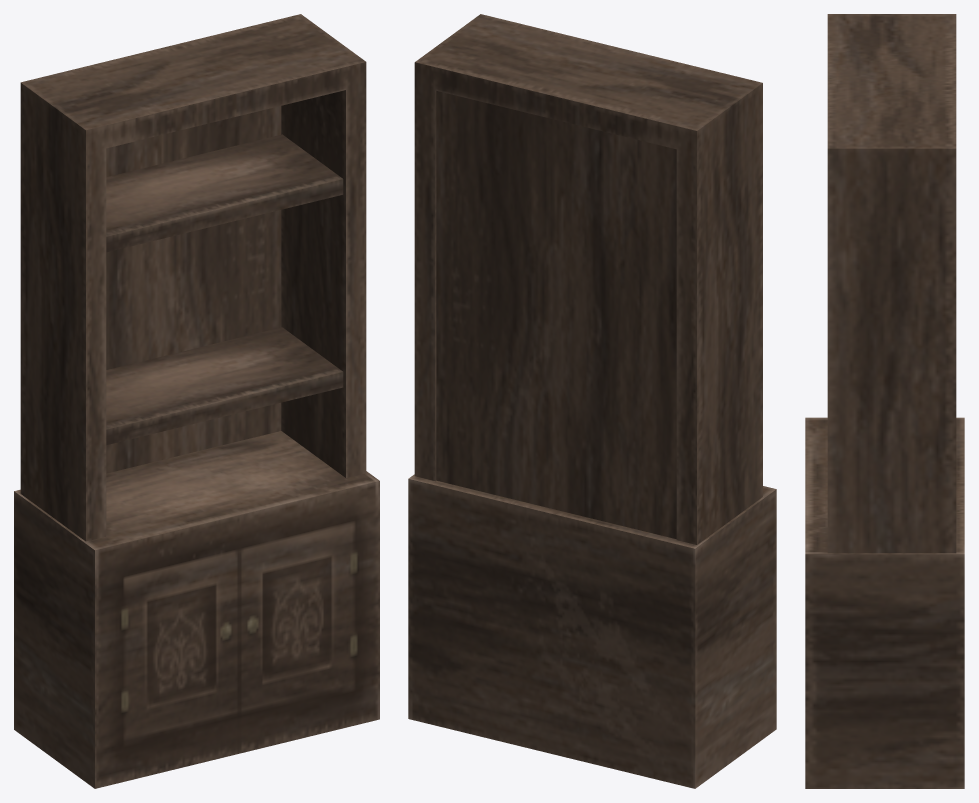
Rendered from Bookshelf_2.fbx.
3 views of the same model, side by side, from view 1: azimuth 30°, elevation 25°; view 2: azimuth 150°, elevation 25°; view 3: azimuth 270°, elevation 25° (orthographic). The views are drawn at different scales.
Parts seen in each view (by area): view 1: Bookshelf_2; view 2: Bookshelf_2; view 3: Bookshelf_2.
Boxes of the visible parts, bbox=[...] form: Bookshelf_2: bbox=[14, 14, 379, 788]; Bookshelf_2: bbox=[408, 14, 776, 788]; Bookshelf_2: bbox=[805, 14, 964, 788].
Bounding box in the file's own units: 87.23 × 190 × 42.9.
